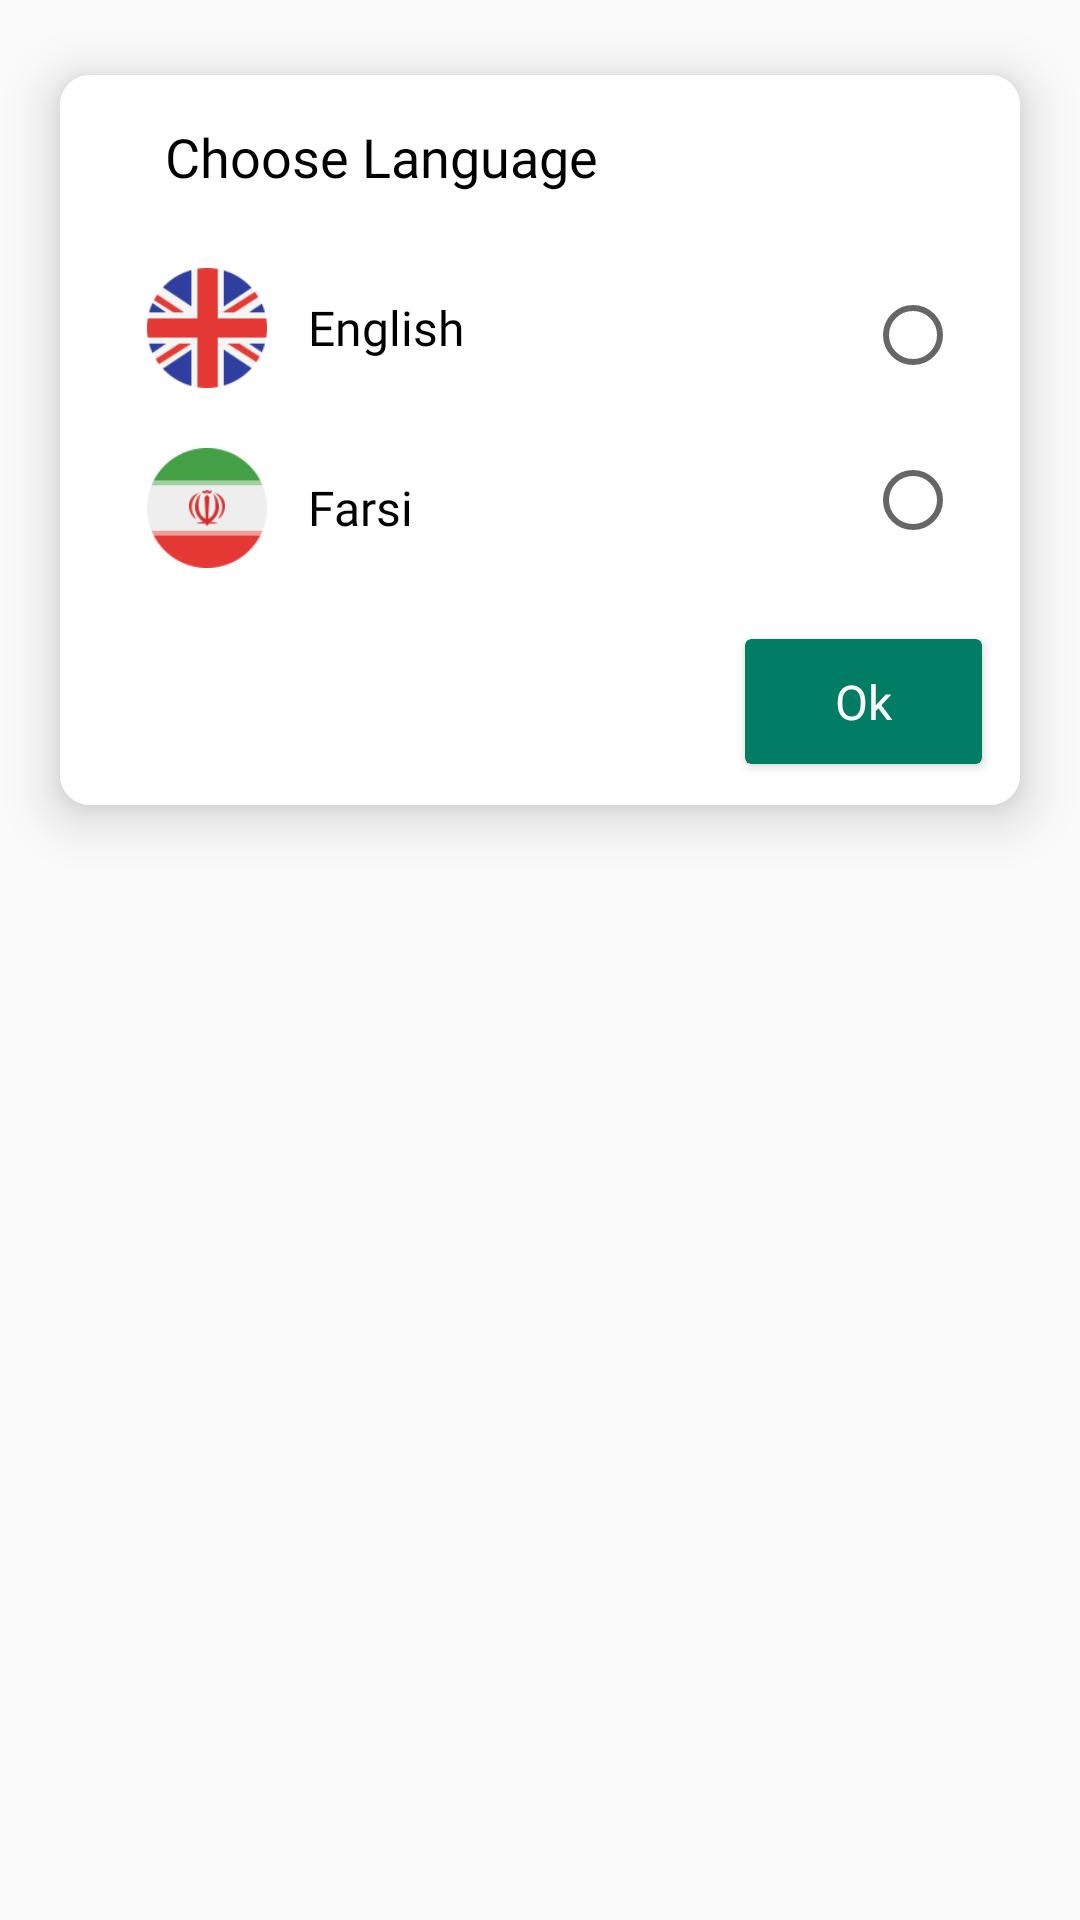

Named icons in this screenshot (1080 × 1920) and their bounding boxes, (x1, y1, x2, y2):
flag en: (147, 268, 267, 388)
flag fa: (151, 448, 263, 568)
